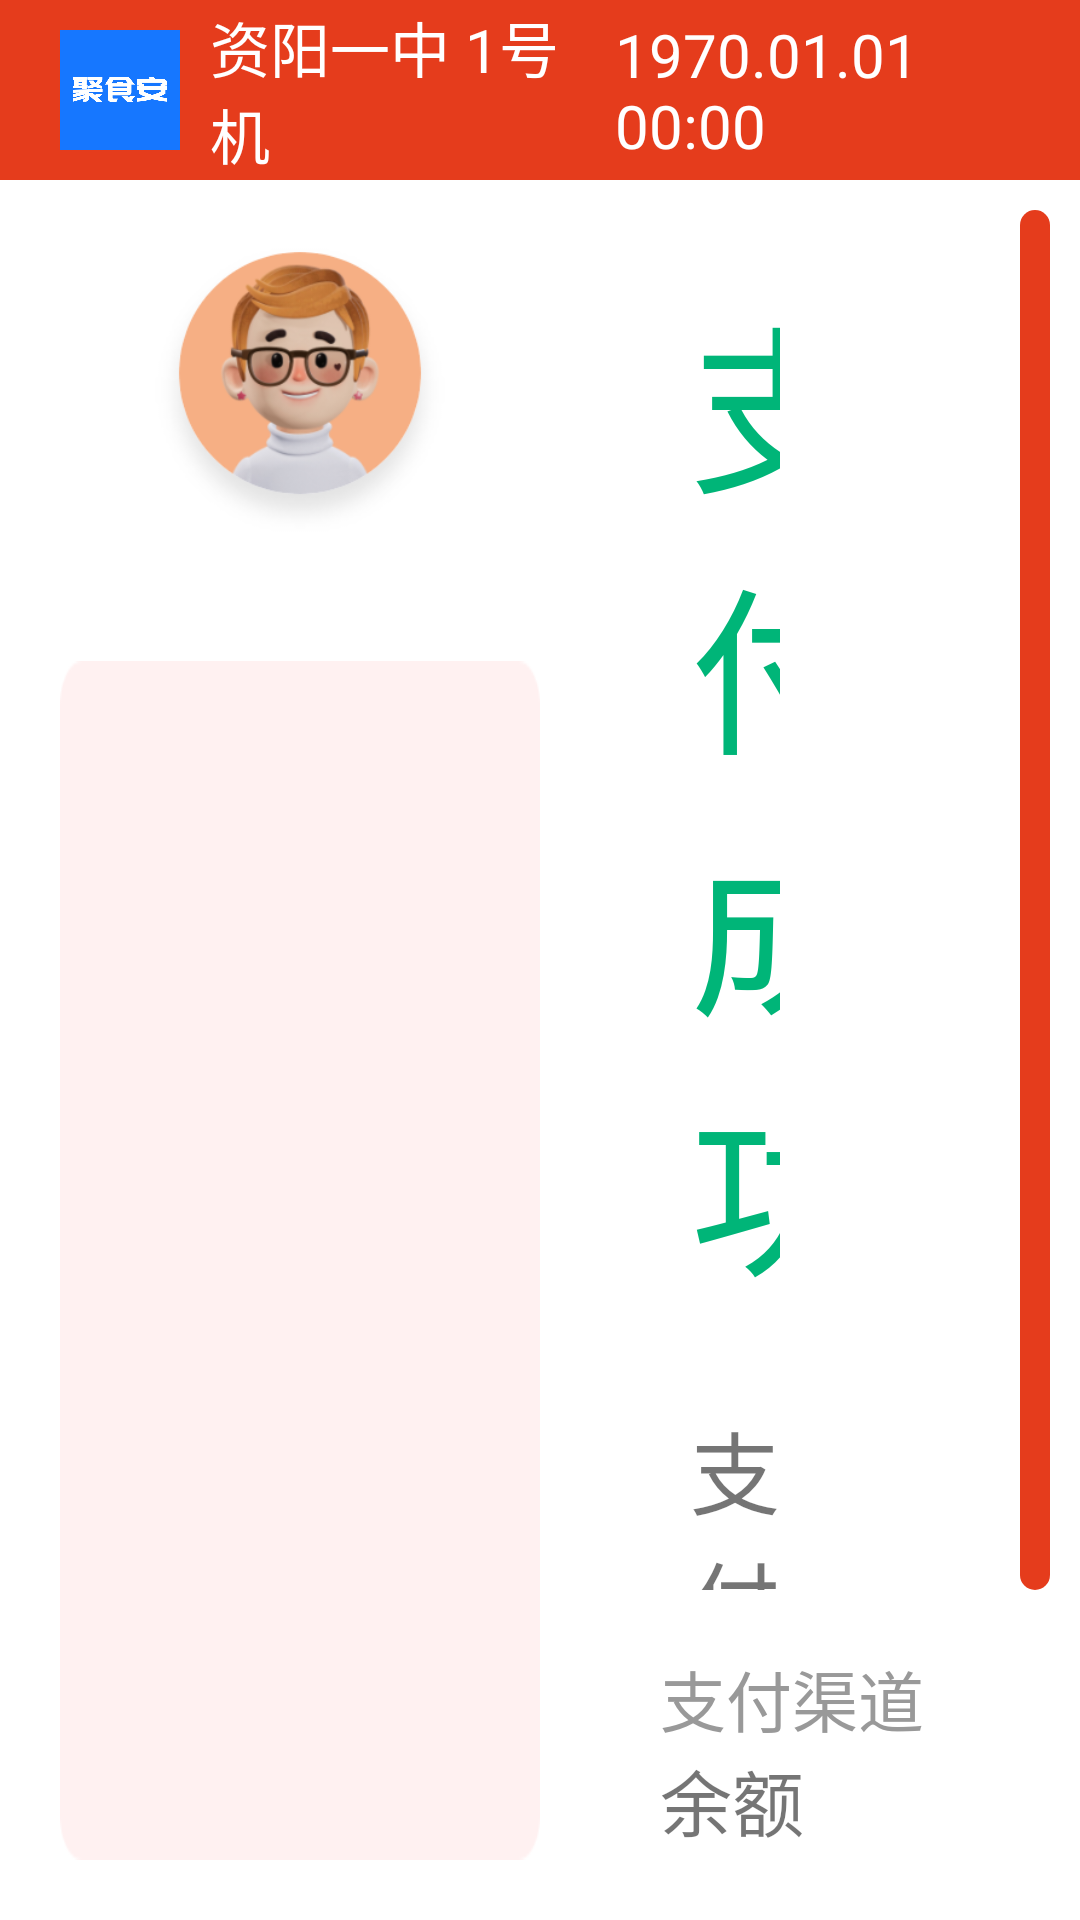

Icons on this 1080px x 1920px Android screen, each with the point to tap as (x=x, y=y):
head: (x=300, y=376)
